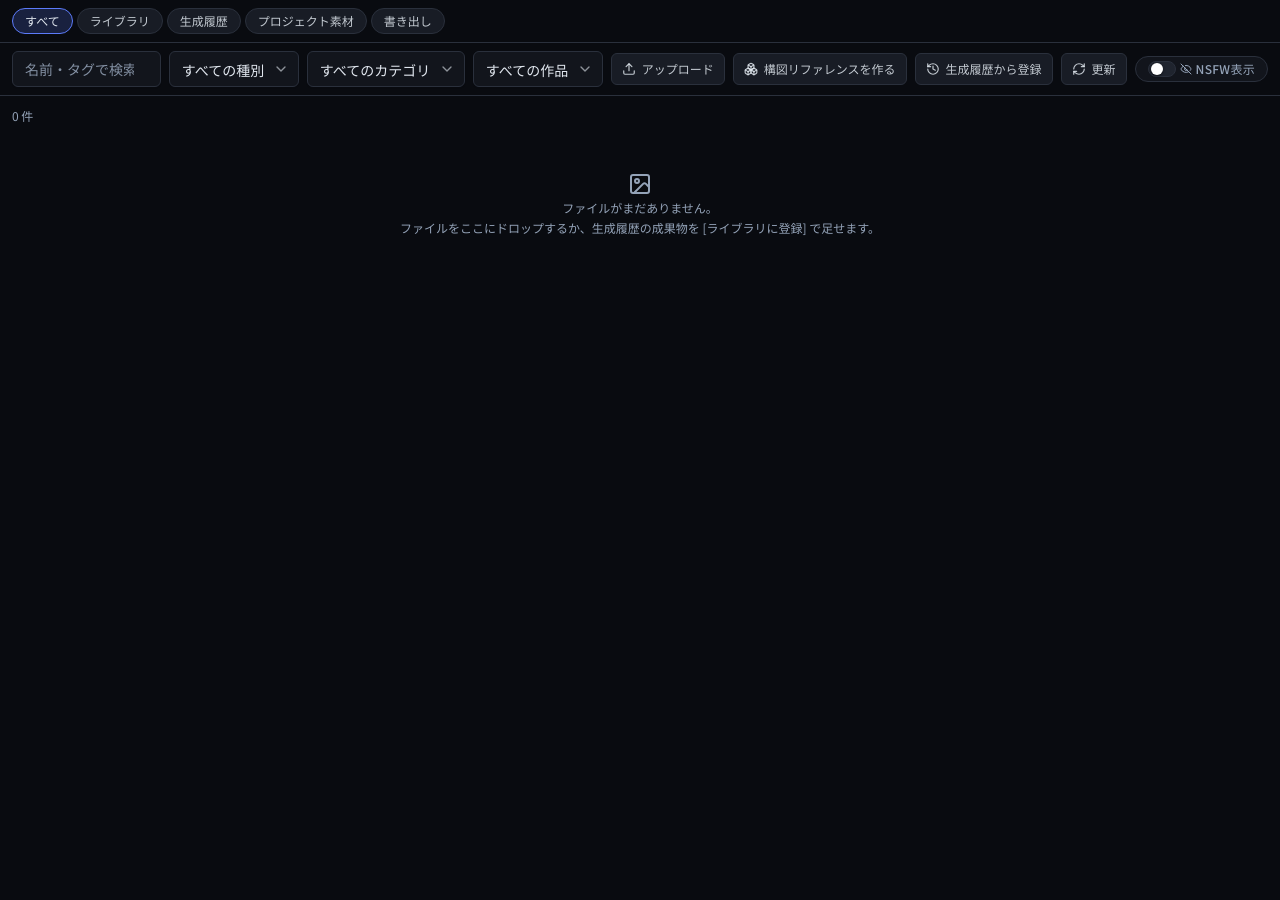
Test: LibraryView › ライブラリ由来の素材は取り込んだ版と [更新あり] を出す
Click the tab "プロジェクト素材" at (306, 21), box [245,8,367,34]
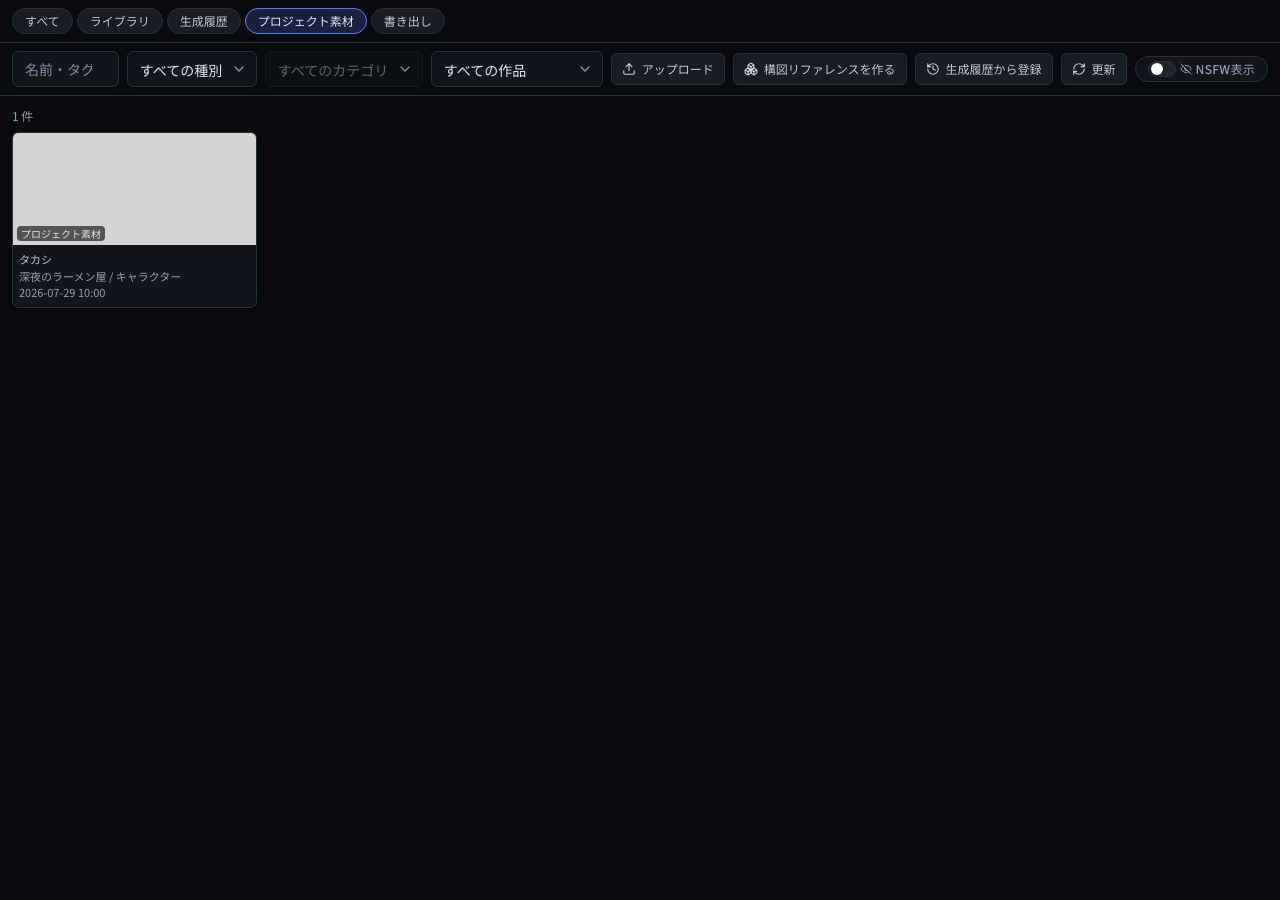
Click the text "タカシ" at (36, 259), box [19,251,52,267]
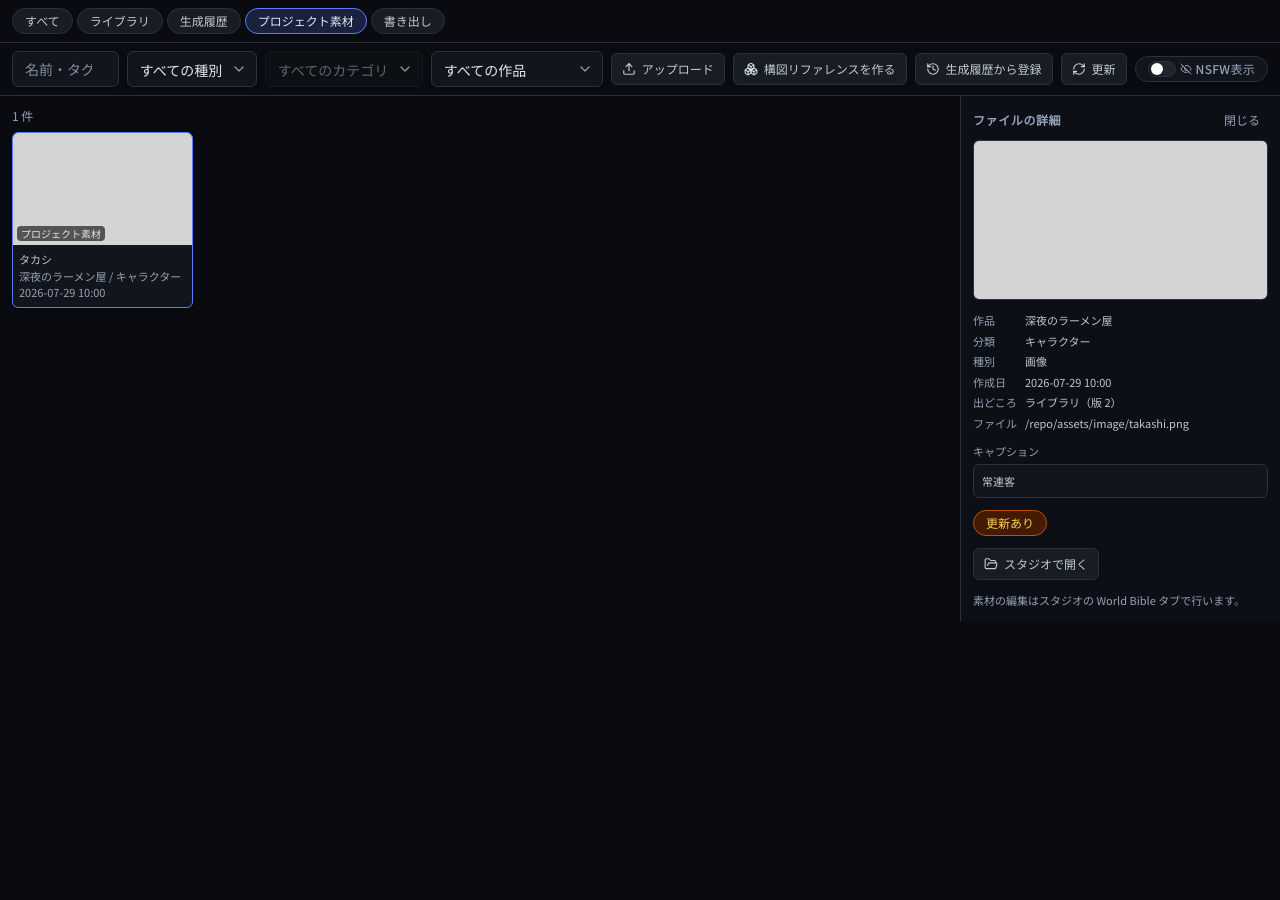
Now the text "ライブラリ（版 2）" is shown, box [1025,394,1122,410]
Now the text "更新あり" is shown, box [973,510,1047,536]
